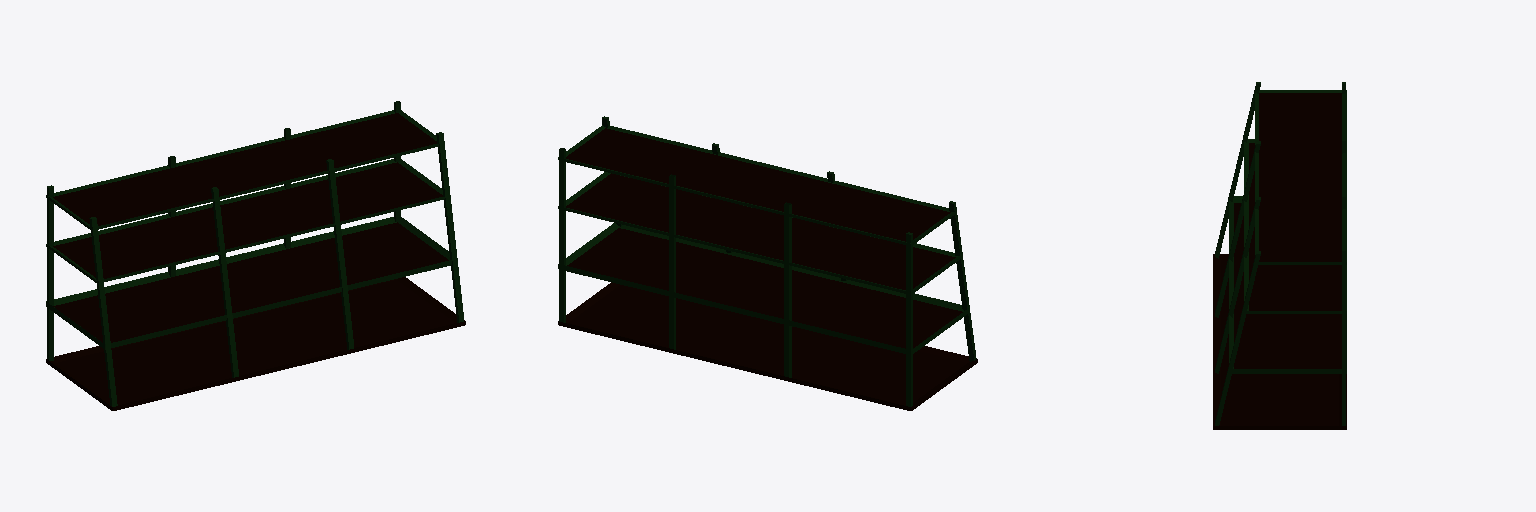
The model's file is big_shelf.obj.
The picture shows the model from 3 angles: view 1: azimuth 30°, elevation 25°; view 2: azimuth 150°, elevation 25°; view 3: azimuth 270°, elevation 25°; orthographic projection.
Visible parts, largest first — view 1: plane, plane.001, plane.002, plane.003, collumns; view 2: plane.001, plane, plane.003, plane.002, collumns; view 3: plane.003, plane, plane.001, plane.002, collumns.
Part boxes in pixels (x1,y1,x2,y2): plane: (46,277,465,410); plane.001: (46,217,451,349); plane.002: (46,159,444,283); plane.003: (46,110,438,230); collumns: (47,101,463,406); plane.001: (558,223,969,354); plane: (558,282,977,410); plane.003: (558,125,956,245); plane.002: (558,172,962,294); collumns: (559,116,976,406); plane.003: (1255,90,1346,264); plane: (1213,254,1346,429); plane.001: (1229,196,1346,373); plane.002: (1244,139,1346,313); collumns: (1215,82,1345,425).
Size of the model in its own units: 6.13 by 2.92 by 2.